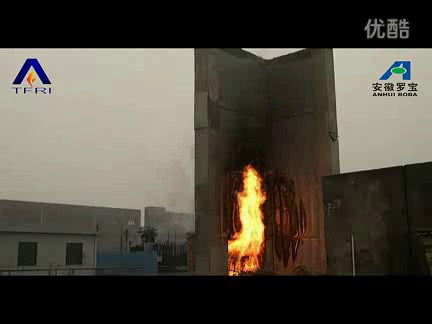fire: (224, 163, 275, 275)
